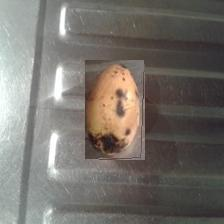Mango Semirotten: (86, 61, 146, 161)
